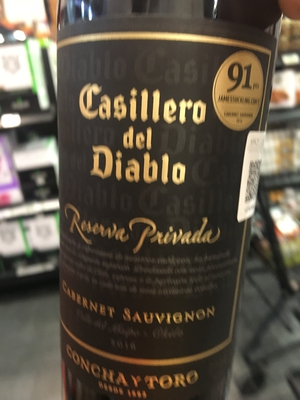casillero del diablo reserva privada cabernet sauvignon: (38, 2, 277, 400)
